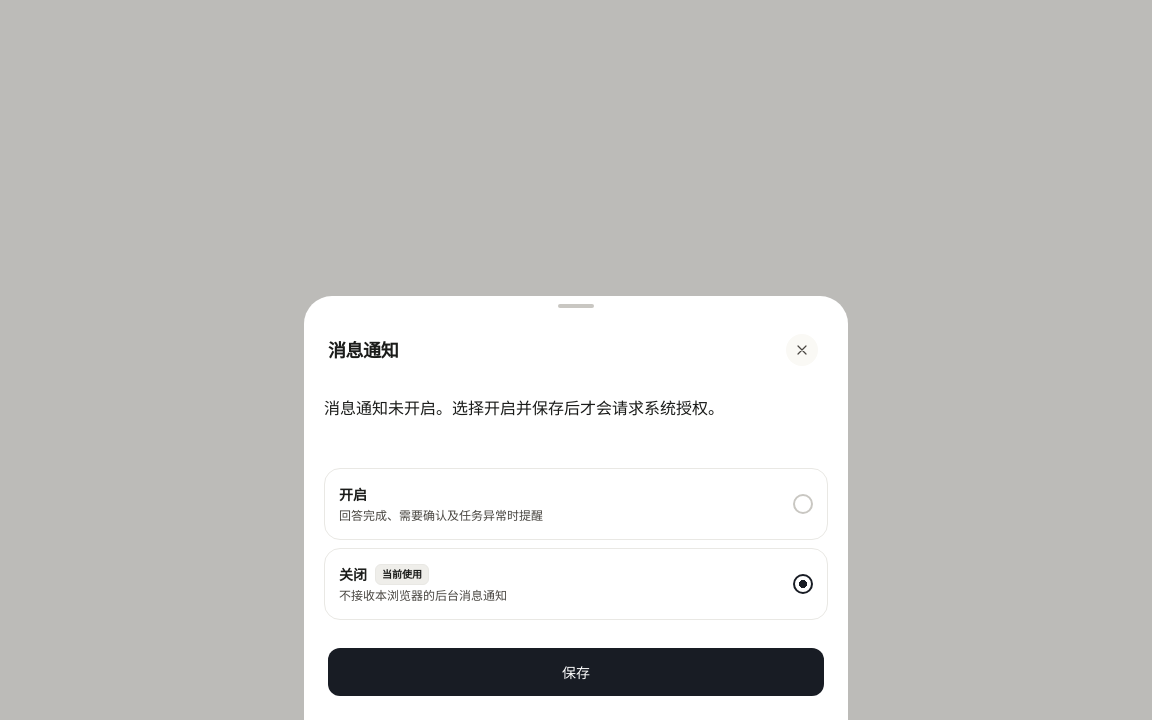
Test: permission denied never declares success
Step 1. Click the radio button labelled "开启 回答完成、需要确认及任务异常时提醒" → click(441, 515), box [324, 468, 828, 540]
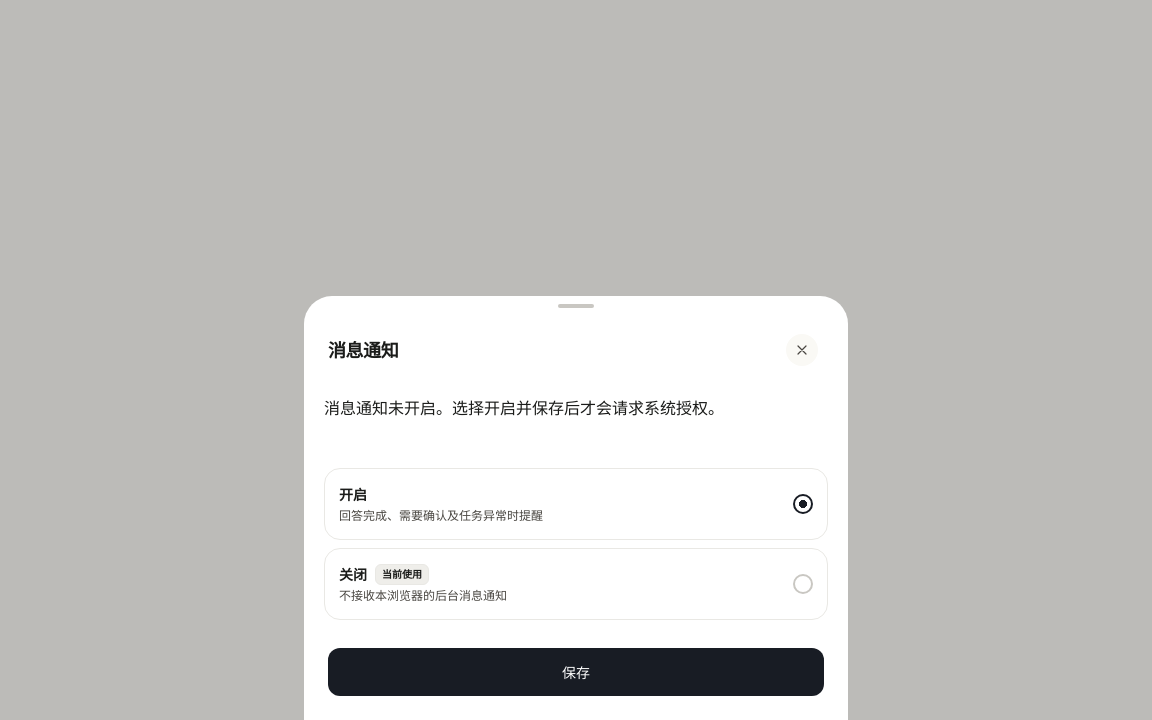
Step 2. Click the button "保存" → click(576, 672), box [328, 648, 824, 696]
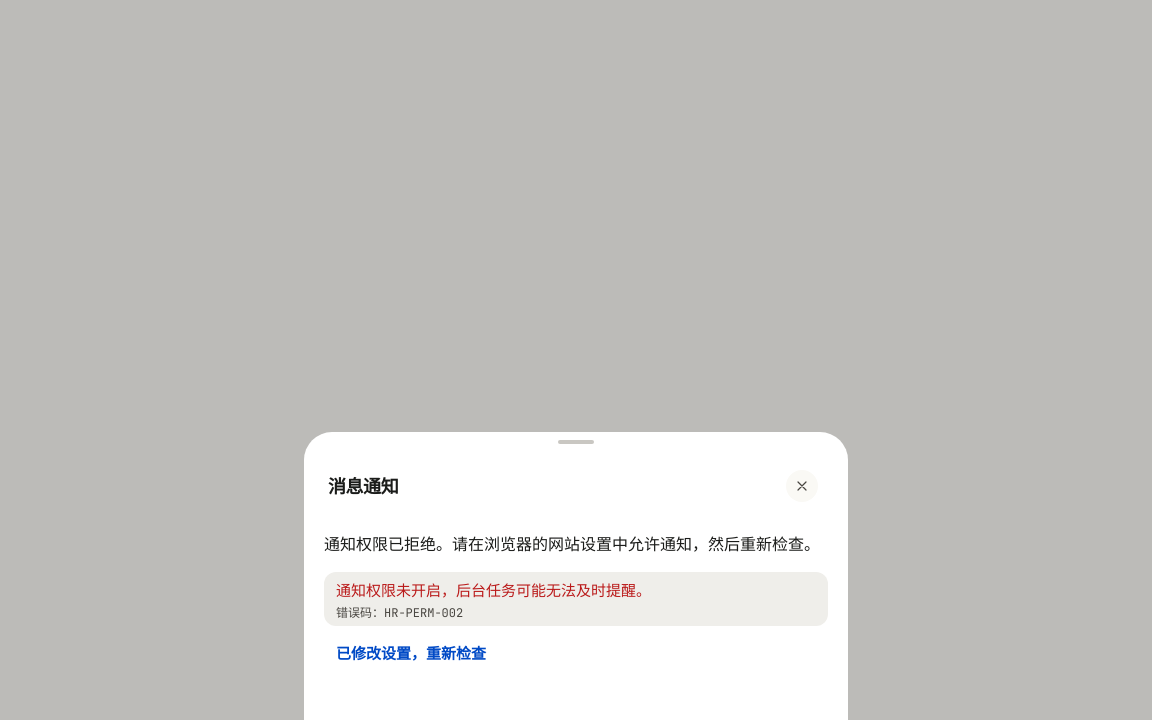
Result: the text "HR-PERM-002" is shown at [336, 605, 463, 621]
